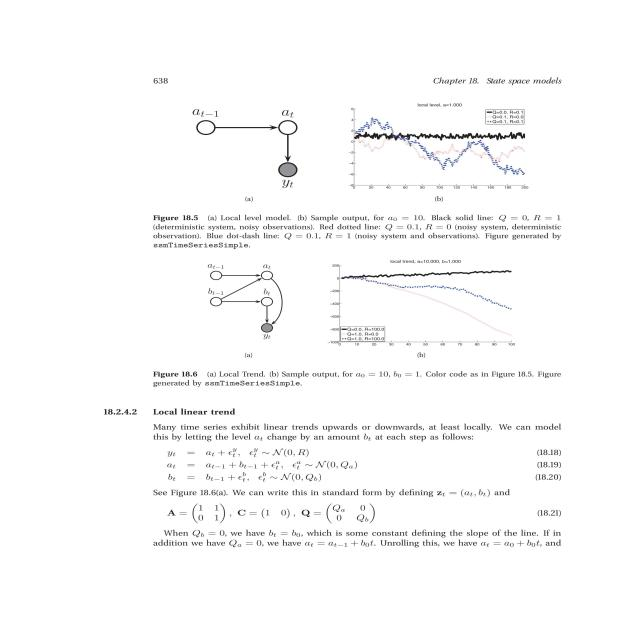diagram: (65, 92, 640, 406)
